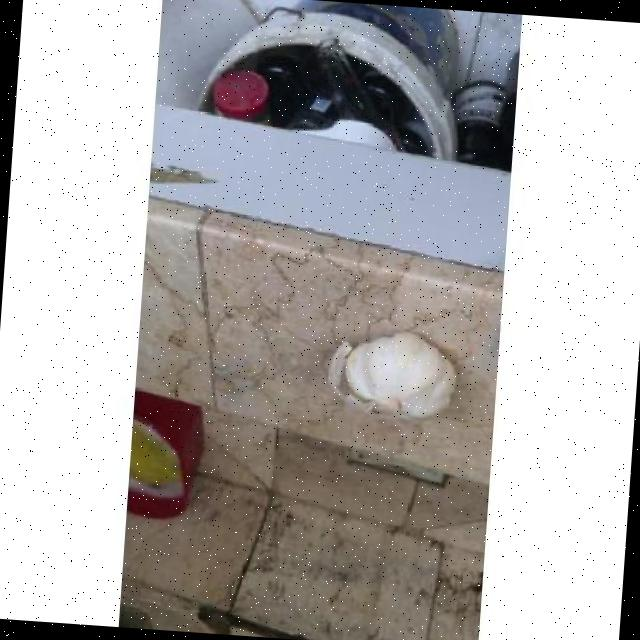garlic: (327, 331, 454, 418)
